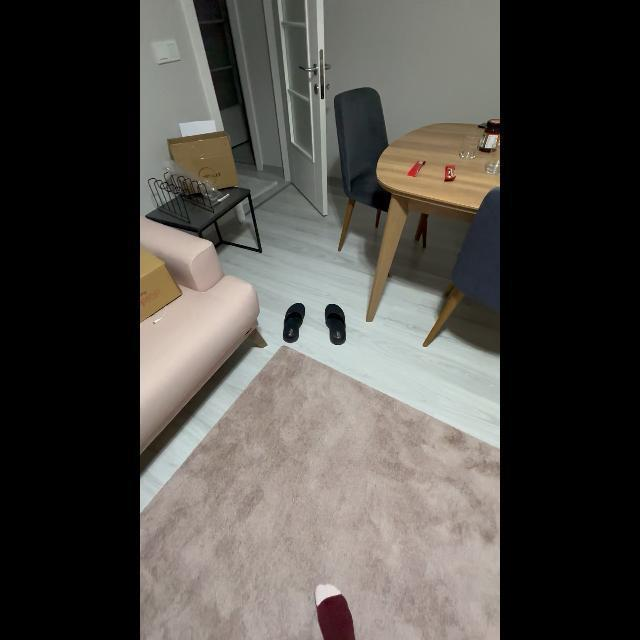slipper: (280, 296, 314, 348), (320, 299, 354, 346)
